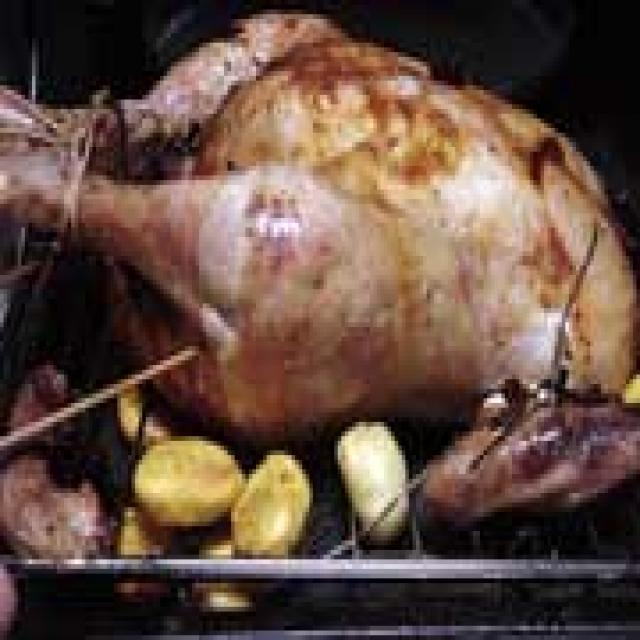Chicken roast: (4, 43, 622, 489)
